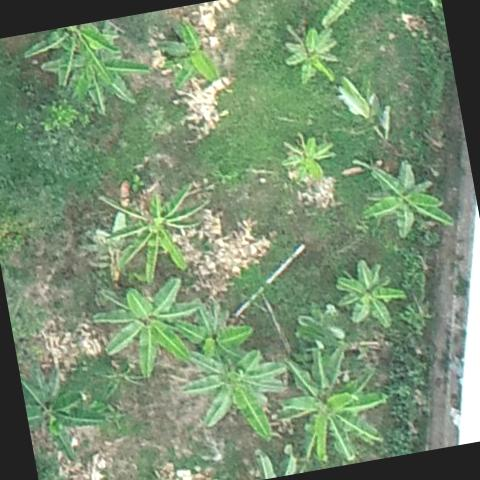Banana-plant: (264, 329, 398, 472), (171, 330, 304, 448), (80, 262, 210, 382), (23, 14, 154, 130), (96, 166, 217, 290), (20, 358, 114, 466), (356, 146, 456, 238), (10, 18, 126, 96), (144, 2, 230, 98), (324, 250, 412, 336), (272, 2, 350, 96), (271, 120, 344, 190)
